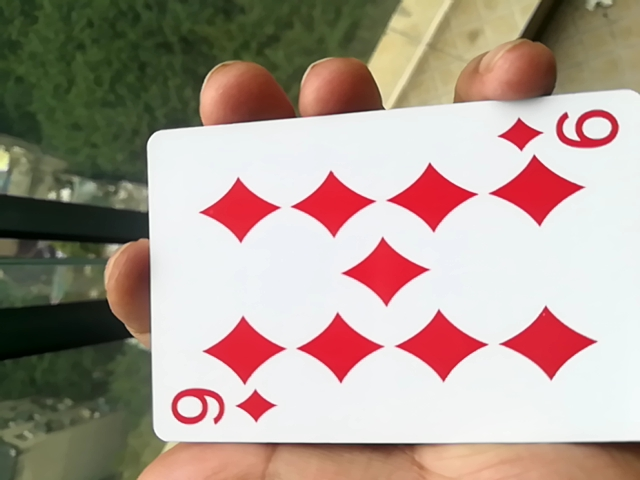fk 9: (130, 103, 637, 458)
